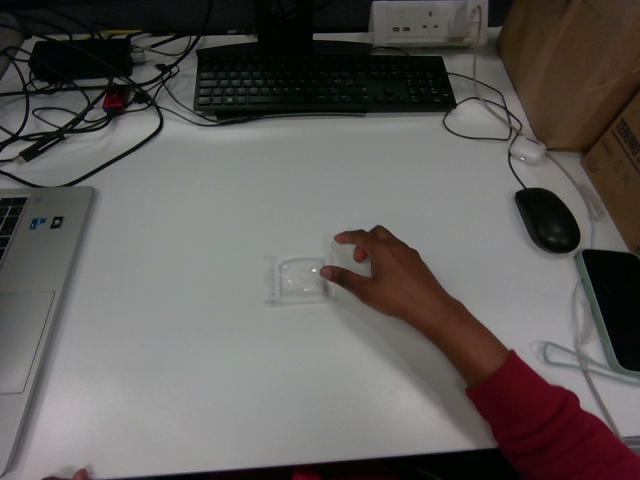gauze: (263, 256, 334, 305)
